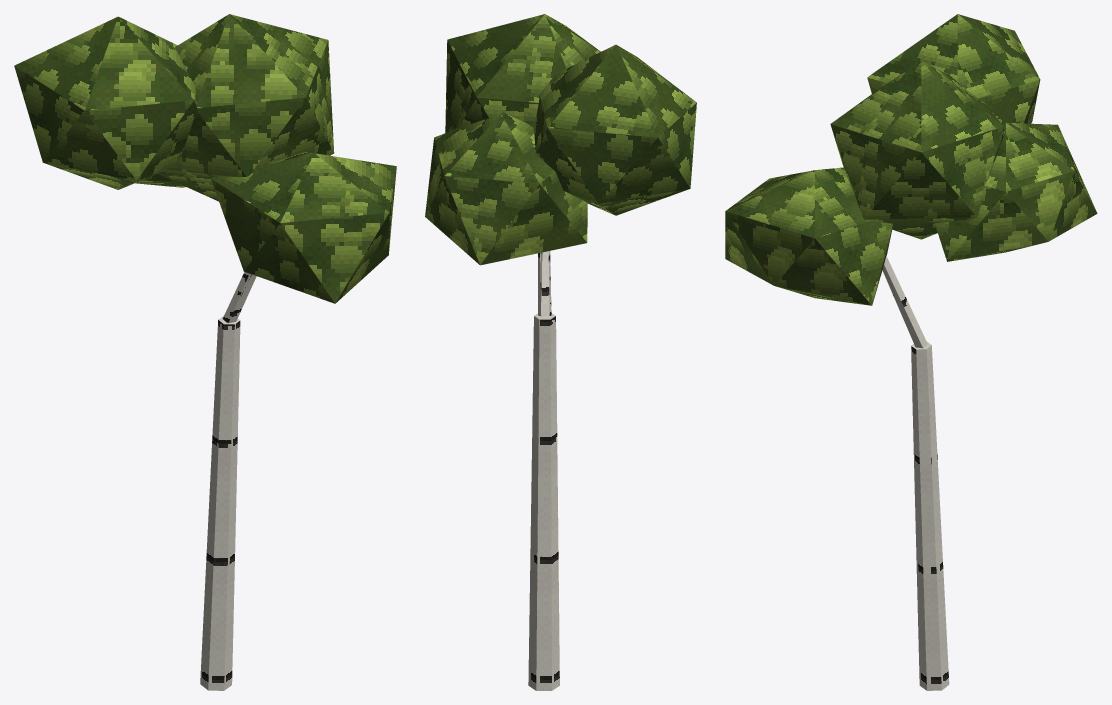
File: arbol_abedul.obj
The picture shows the model from 3 angles, left to right: view 1: azimuth 30°, elevation 25°; view 2: azimuth 150°, elevation 25°; view 3: azimuth 270°, elevation 25°; orthographic projection. The views are drawn at different scales.
Parts seen in each view (by area): view 1: arbol_abedul; view 2: arbol_abedul; view 3: arbol_abedul.
Part boxes in pixels (<box>): arbol_abedul: <box>14,14,396,690</box>; arbol_abedul: <box>425,14,696,690</box>; arbol_abedul: <box>725,14,1097,690</box>.
Size of the model in its own units: 2.21 by 5.17 by 2.76.
Materials: 2 (2 with a texture image).
